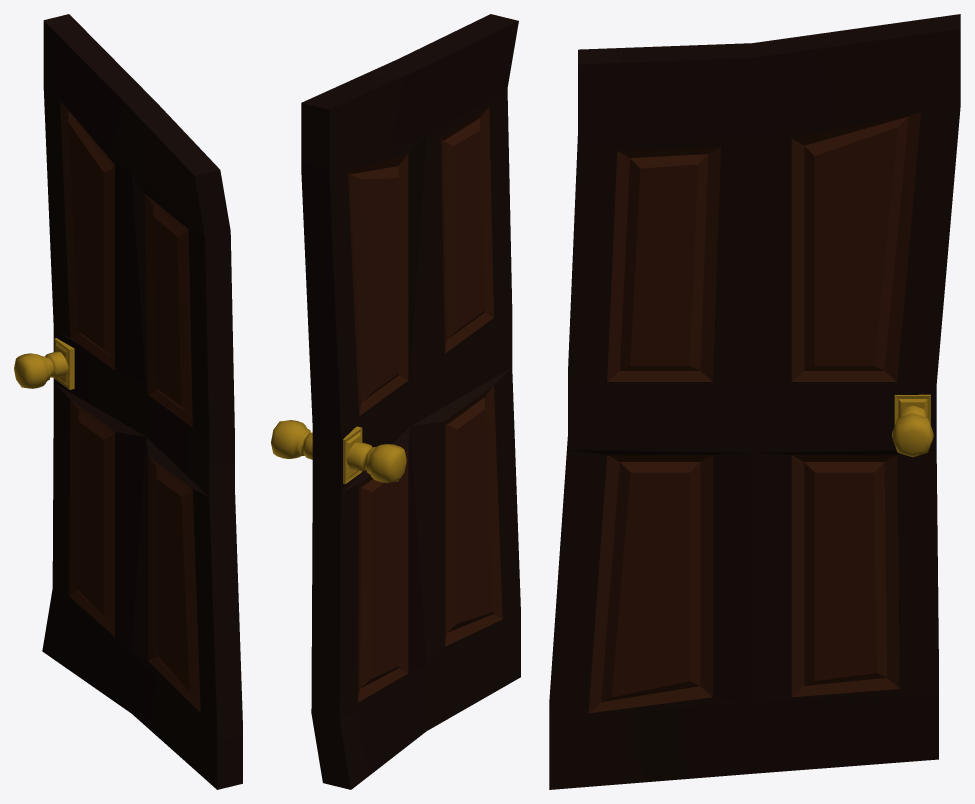
Rendered from Door.fbx.
3 renders of one model, left to right at view 1: azimuth 30°, elevation 25°; view 2: azimuth 150°, elevation 25°; view 3: azimuth 270°, elevation 25°, orthographic. The views are drawn at different scales.
Parts seen in each view (by area): view 1: Door1, door2, door3; view 2: Door1, door2, door3; view 3: Door1, door2.
Boxes of the visible parts, <box> form: Door1: <box>42,14,242,789</box>; door2: <box>14,351,68,388</box>; door3: <box>54,338,74,389</box>; Door1: <box>301,14,520,789</box>; door2: <box>271,420,406,482</box>; door3: <box>343,426,362,484</box>; Door1: <box>549,14,960,789</box>; door2: <box>892,405,933,457</box>.
Size of the model in its own units: 19.65 by 106 by 51.91.
